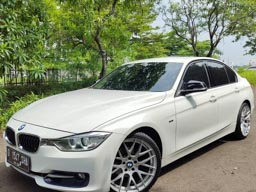plat: (4, 147, 31, 173)
